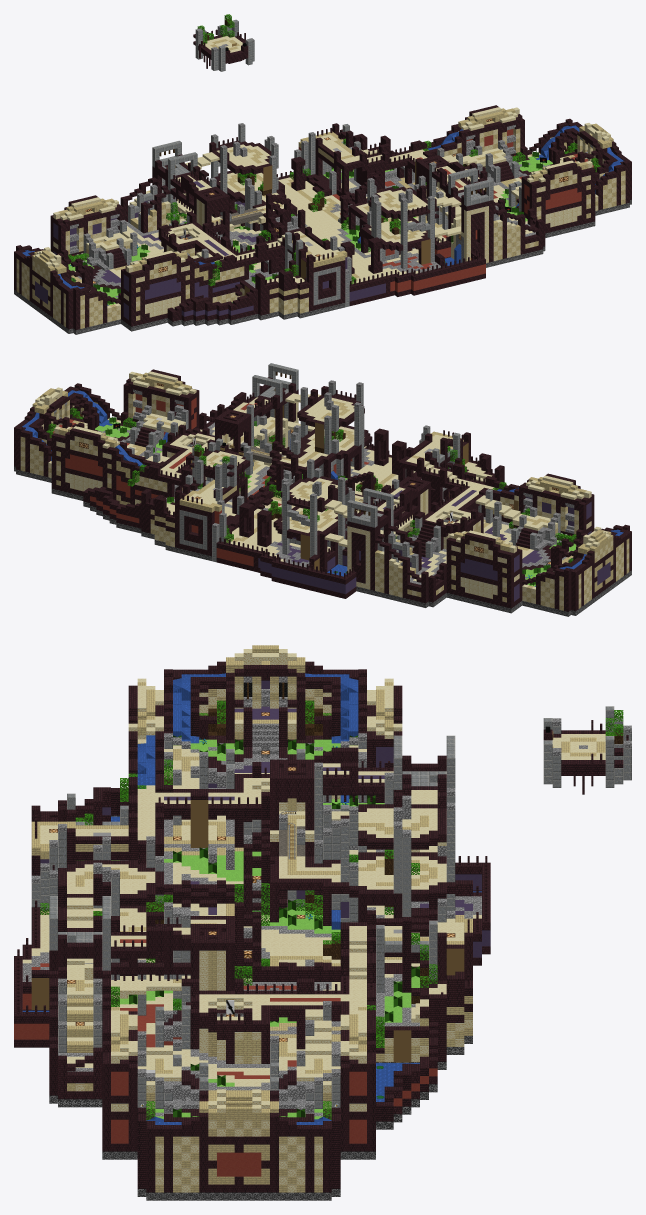
Rendered from minecraft.obj.
3 renders of one model, top to bottom at view 1: azimuth 30°, elevation 25°; view 2: azimuth 150°, elevation 25°; view 3: azimuth 270°, elevation 25°, orthographic. The views are drawn at different scales.
Size of the model in its own units: 1230 by 320 by 700.
